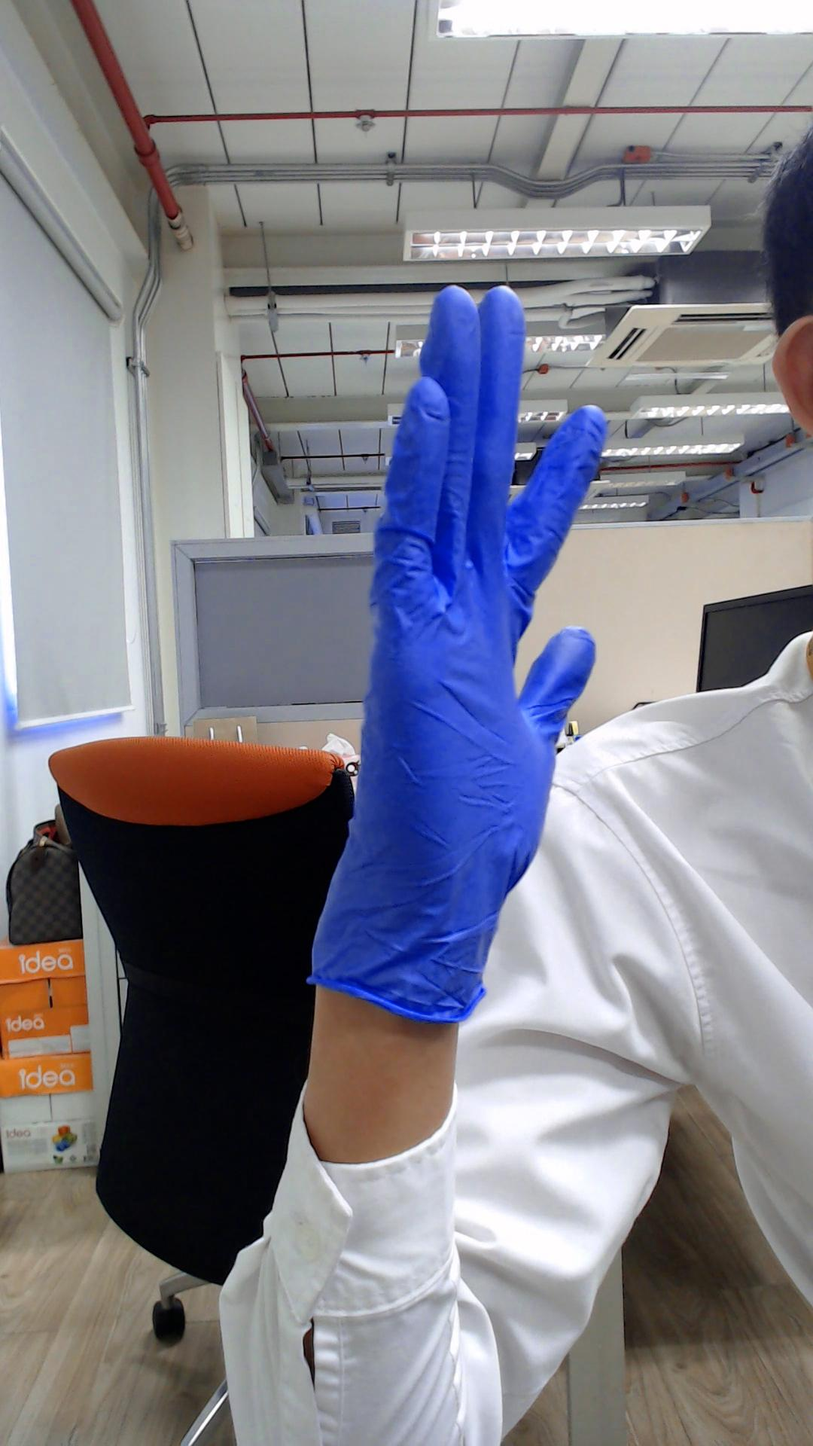gloves: (332, 239, 643, 904)
